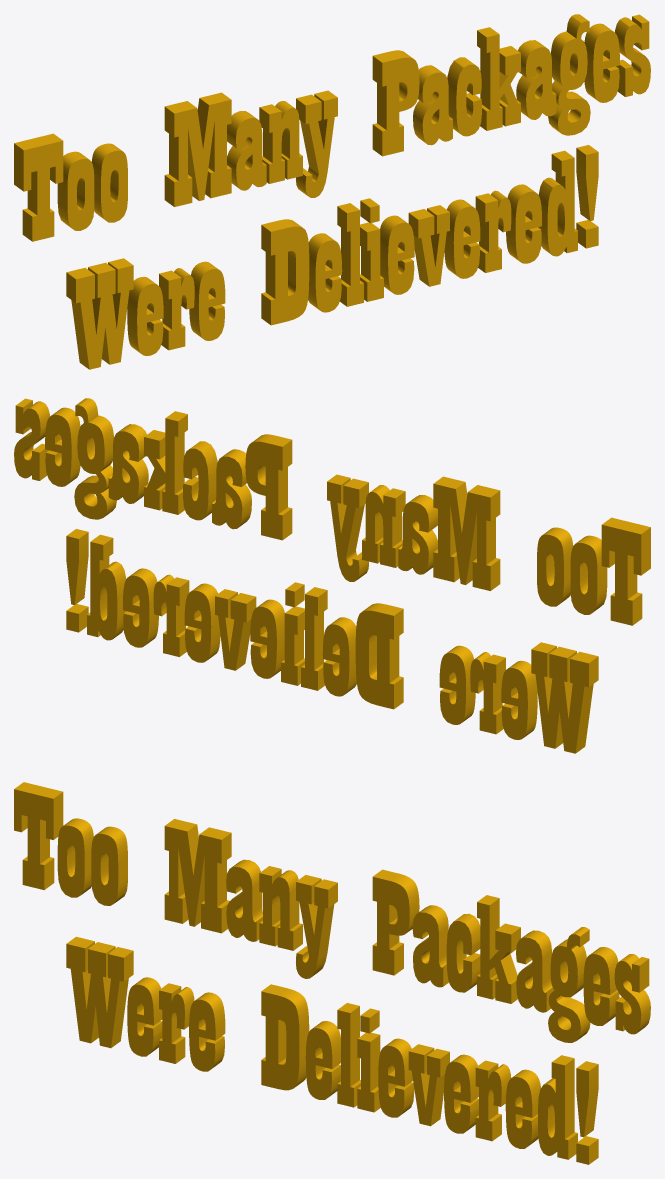
Rendered from GameOverText1.fbx.
3 views of the same model, one above another, from view 1: azimuth 30°, elevation 25°; view 2: azimuth 150°, elevation 25°; view 3: azimuth 330°, elevation 25° (orthographic).
Parts seen in each view (by area): view 1: typeMesh5; view 2: typeMesh5; view 3: typeMesh5.
Part boxes in pixels (x1,y1,x2,y2): typeMesh5: [14, 14, 650, 369]; typeMesh5: [14, 398, 650, 753]; typeMesh5: [14, 782, 650, 1164].
Size of the model in its own units: 27.64 by 9.95 by 0.7467.
